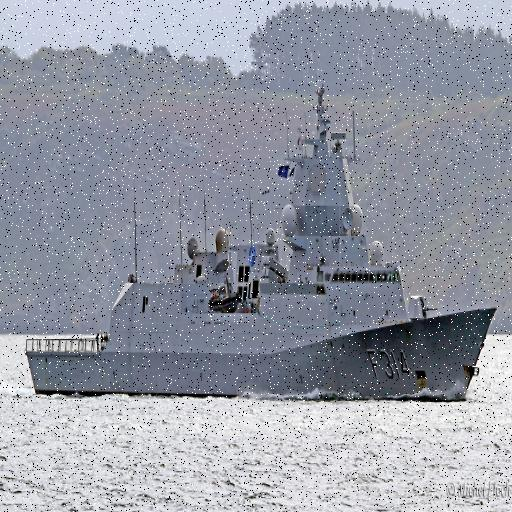Fragata: (24, 71, 502, 406)
